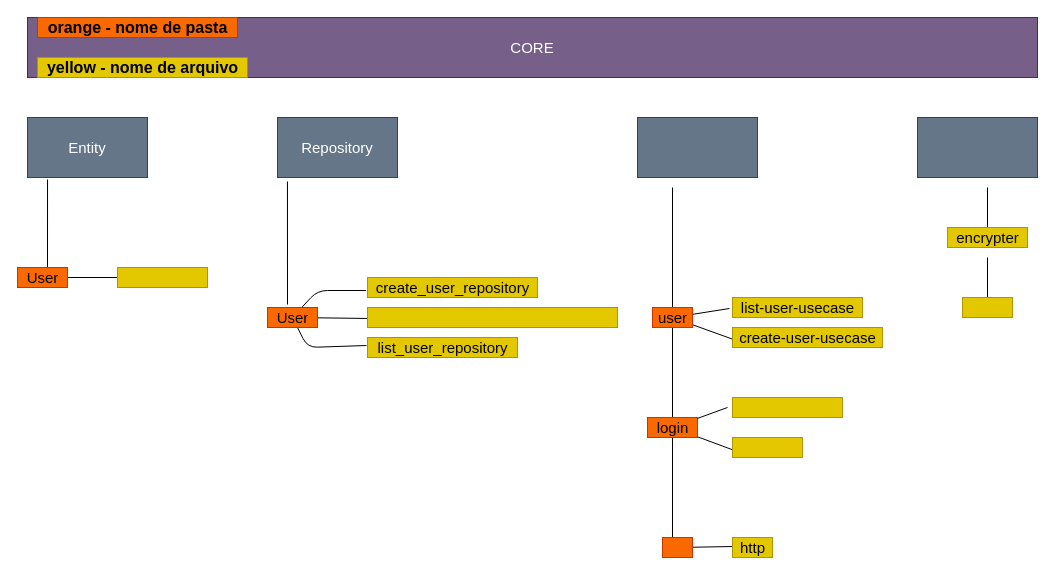
Some shapes in this 1055 by 575 pixel diagram are drawn without their labels. The centre of each missing label's shape, as x and y in pixels:
"Contracts" goes at point (977, 147).
"get_user_by_username_repository" goes at point (492, 317).
"login-dto" goes at point (767, 447).
"login-usecase" goes at point (787, 407).
"token" goes at point (987, 307).
"Usecase" goes at point (697, 147).
"user_entity" goes at point (162, 277).
"util" goes at point (677, 547).
